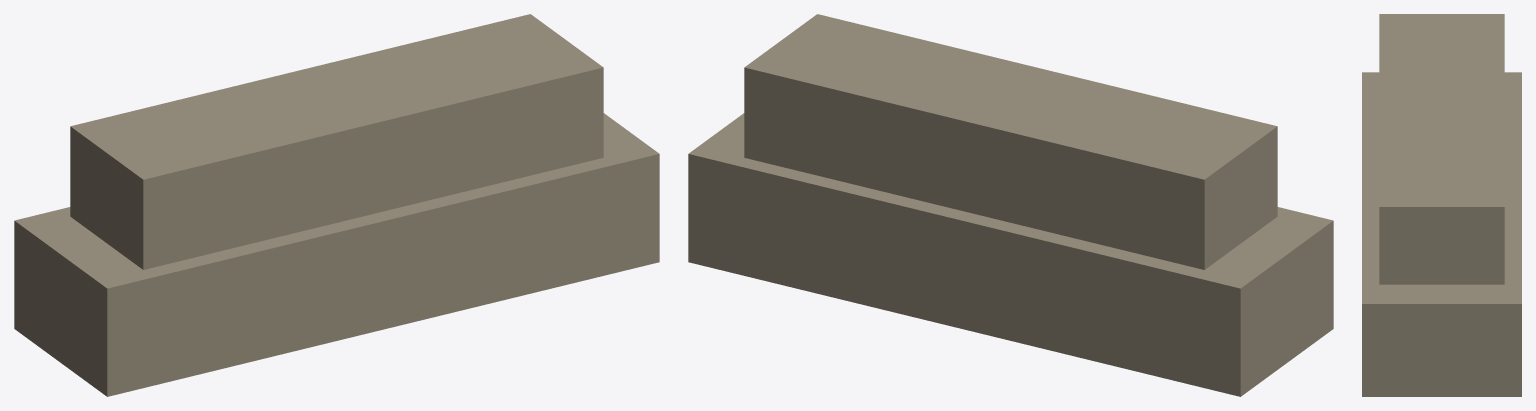
The model's file is barricade.glb.
The picture shows the model from 3 angles, left to right: view 1: azimuth 30°, elevation 25°; view 2: azimuth 150°, elevation 25°; view 3: azimuth 270°, elevation 25°; orthographic projection. The views are drawn at different scales.
Parts seen in each view (by area): view 1: barricade; view 2: barricade; view 3: barricade.
Part boxes in pixels (left/top/right/bottom): barricade: left=14, top=14, right=659, bottom=396; barricade: left=688, top=14, right=1333, bottom=396; barricade: left=1362, top=14, right=1521, bottom=396.
Size of the model in its own units: 2.4 by 0.825 by 0.7.
